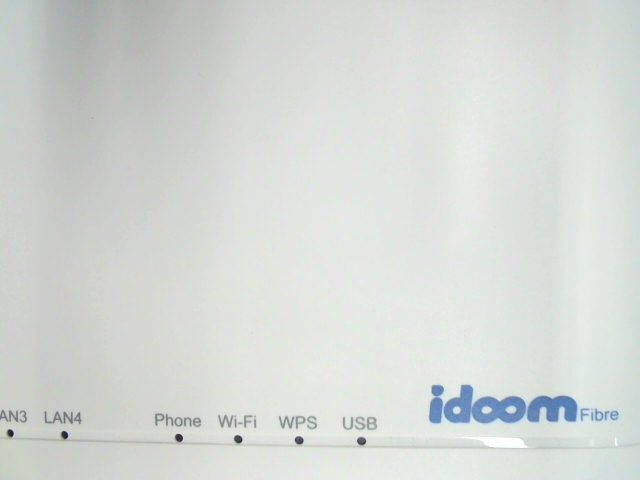BB_idoom: (419, 375, 628, 428)
